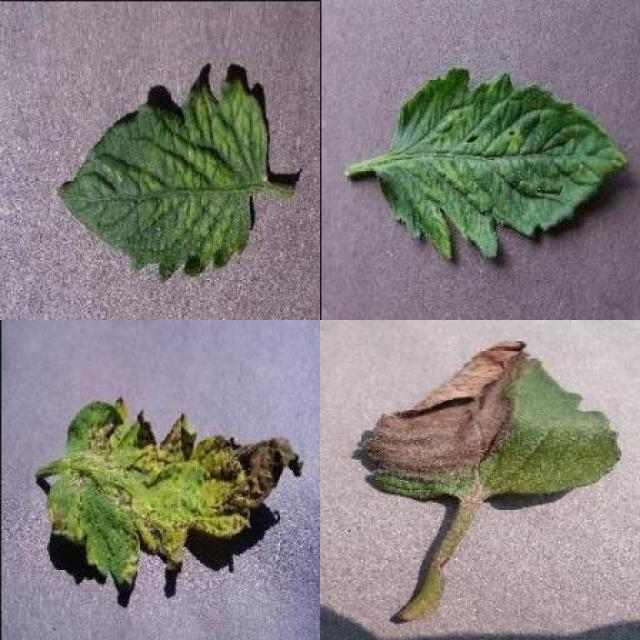Late Blight: (357, 338, 622, 499)
Mosaic Virus: (377, 70, 630, 266), (59, 77, 268, 283)
Septoria: (49, 399, 304, 586)
